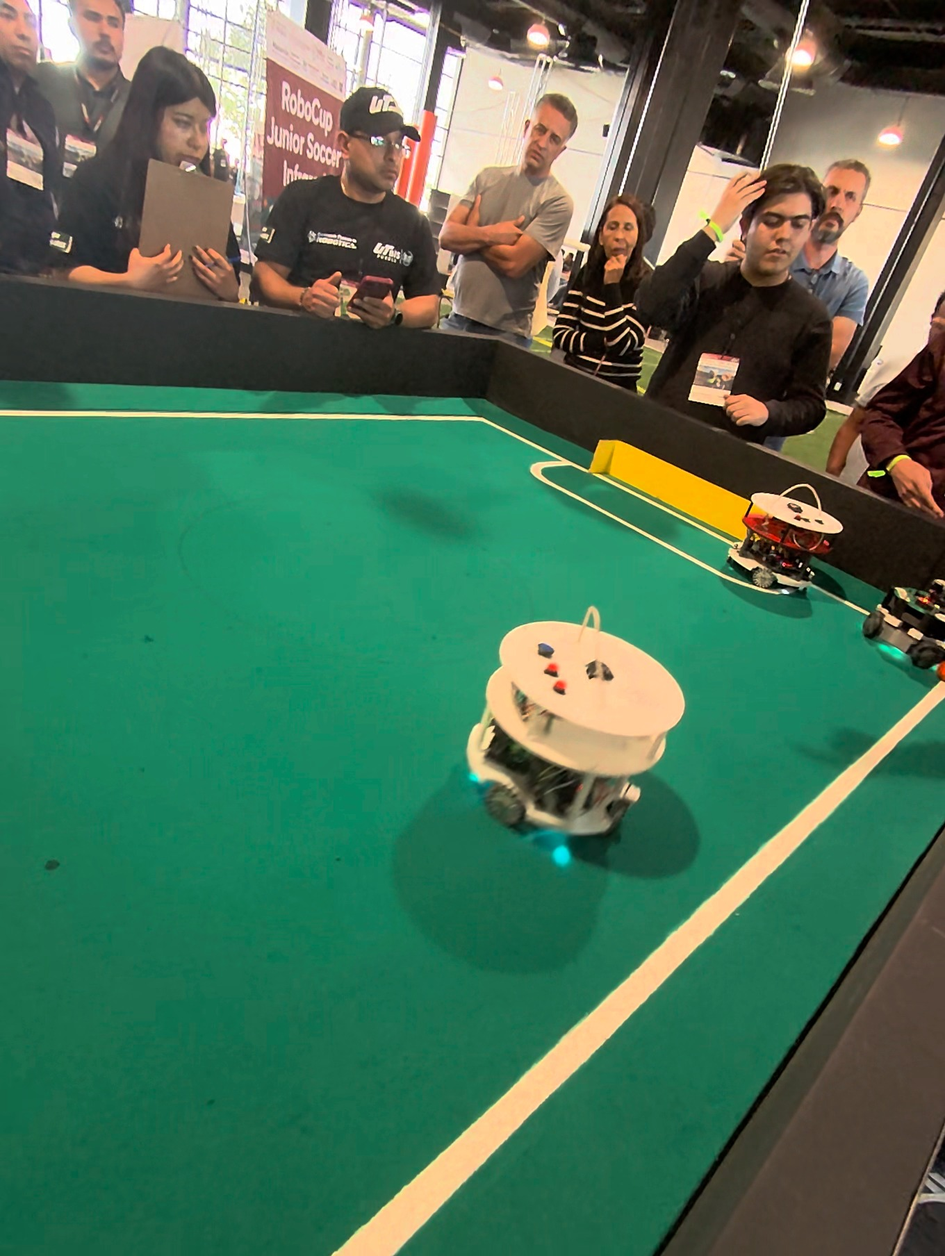Robot: (449, 596, 720, 886), (731, 483, 823, 609), (862, 566, 945, 677)
